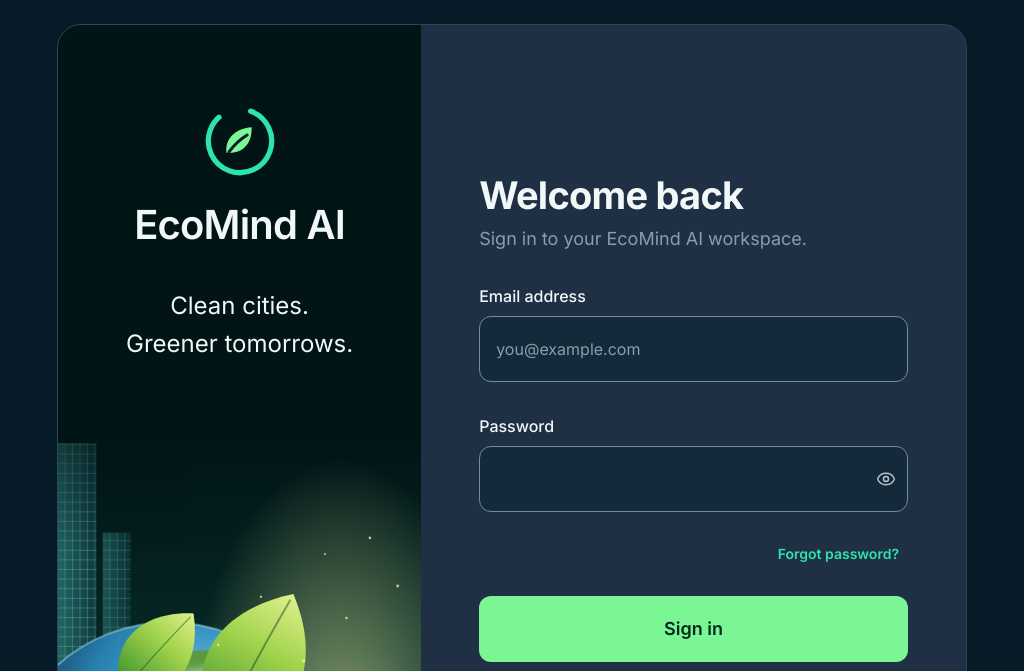
Test: sign-in with two-step verification › asks for the code after the password and only then signs in
Step 1. Type "asha@example.org" into the field labelled "Email address" → [694, 349], box [479,316,908,382]
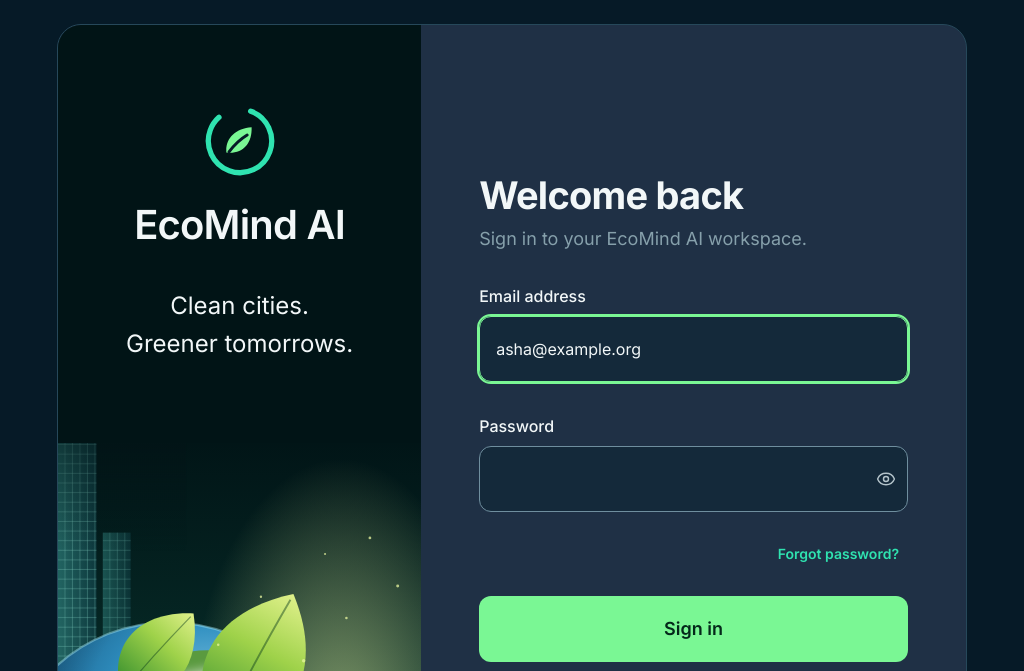
Step 2. Type "a long passphrase 1" into the password field labelled "Password" → [694, 479], box [479,446,908,512]
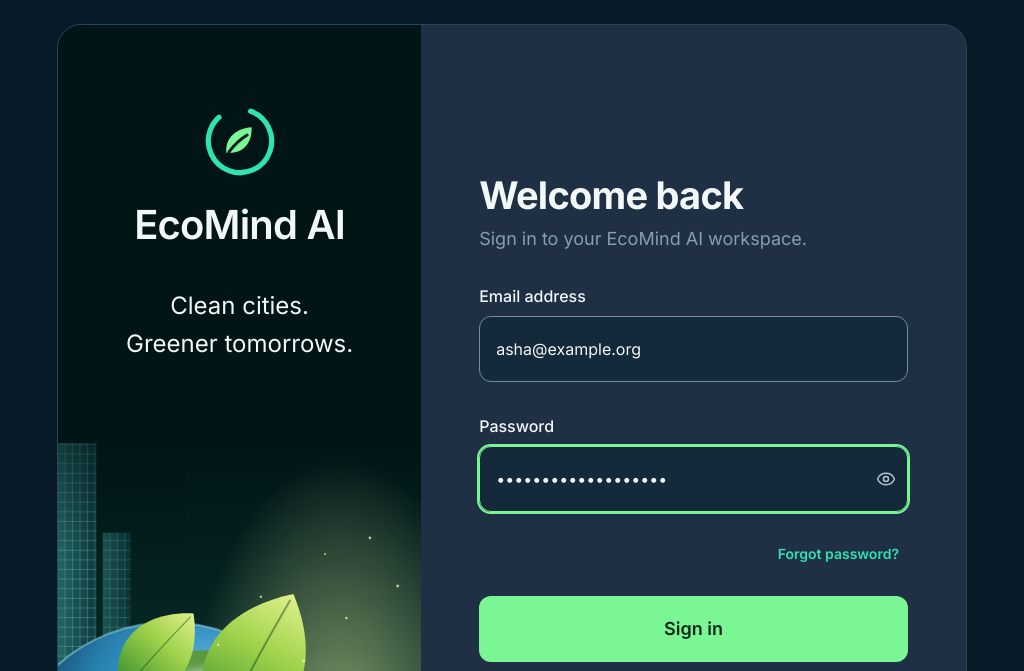
Step 3. Click the button "Sign in" → [694, 629], box [479,596,908,662]
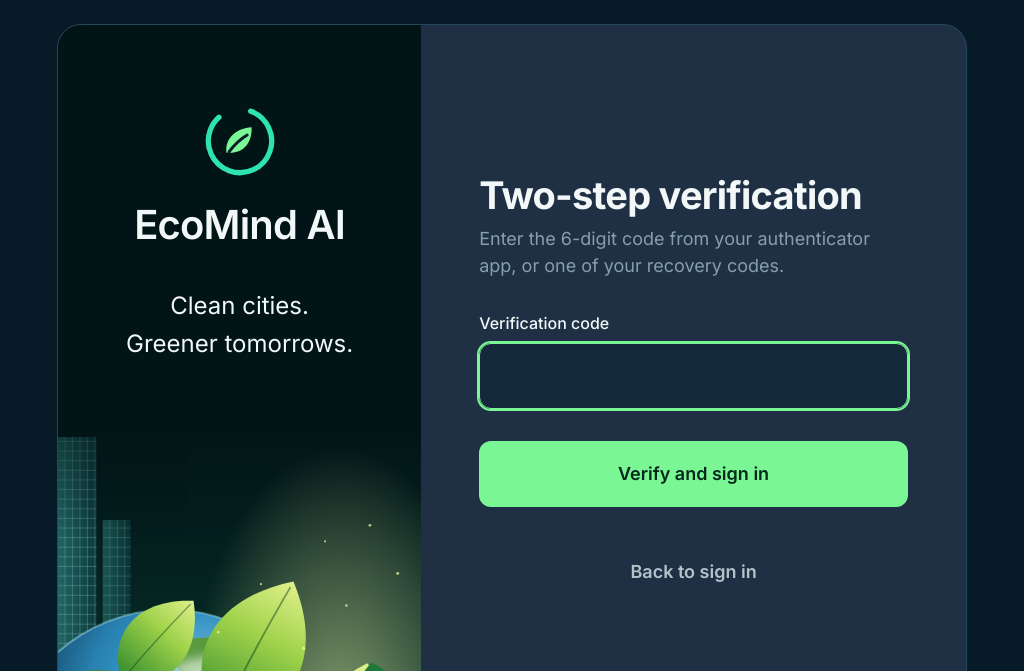
Check: the heading "Two-step verification" is shown, box [479,175,908,217]
Step 4. Type "123456" into the field labelled "Verification code" → [694, 376], box [479,343,908,409]
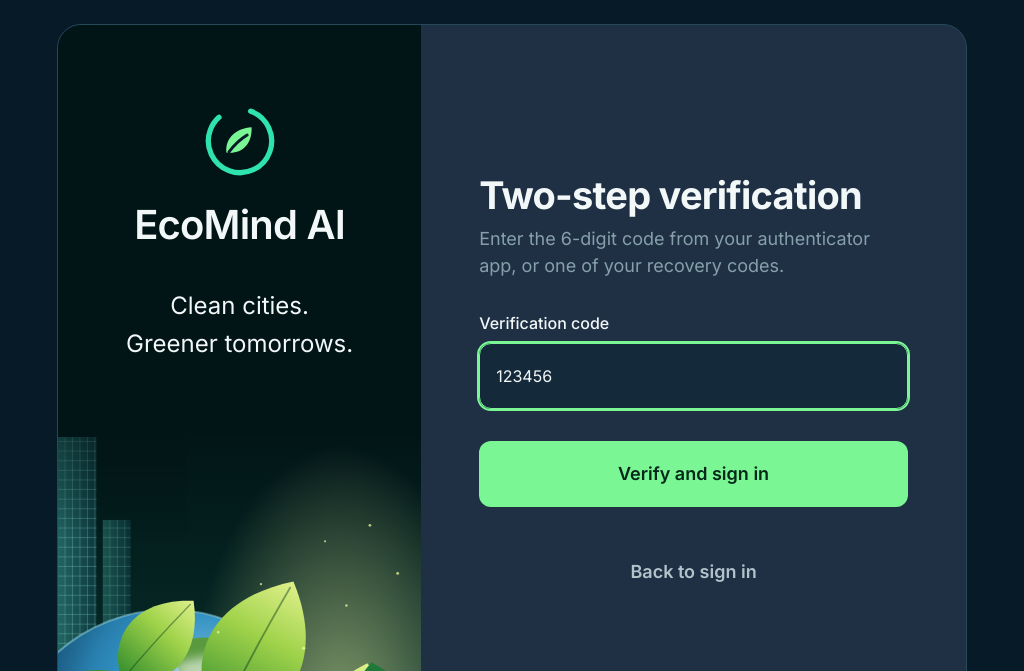
Step 5. Click the button "Verify and sign in" → [694, 474], box [479,441,908,507]
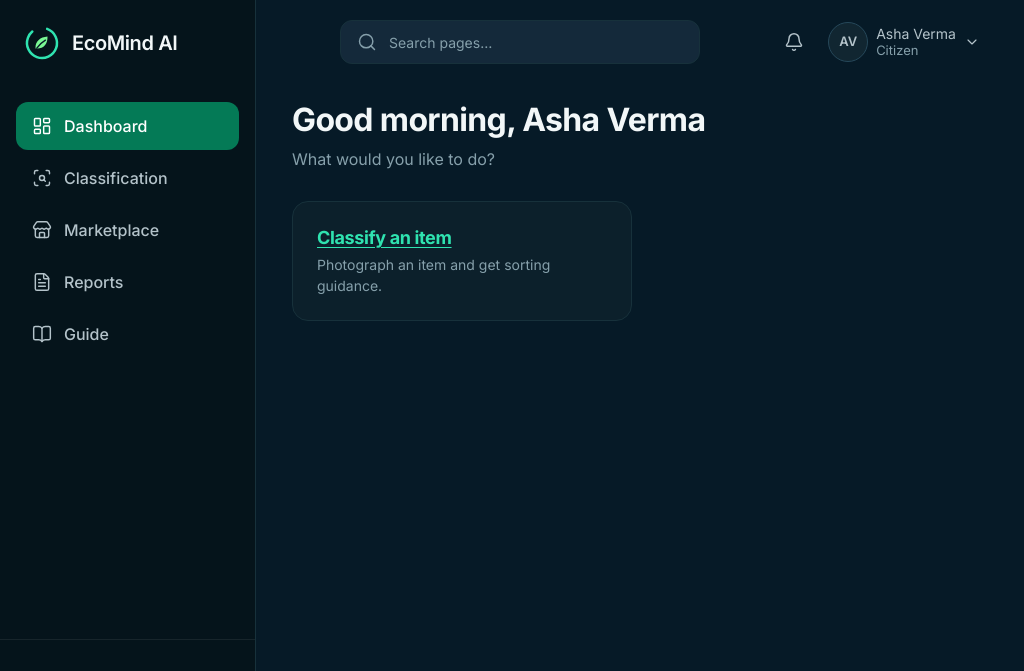
Check: the heading "Good morning, Asha Verma" is shown, box [292,102,705,137]
